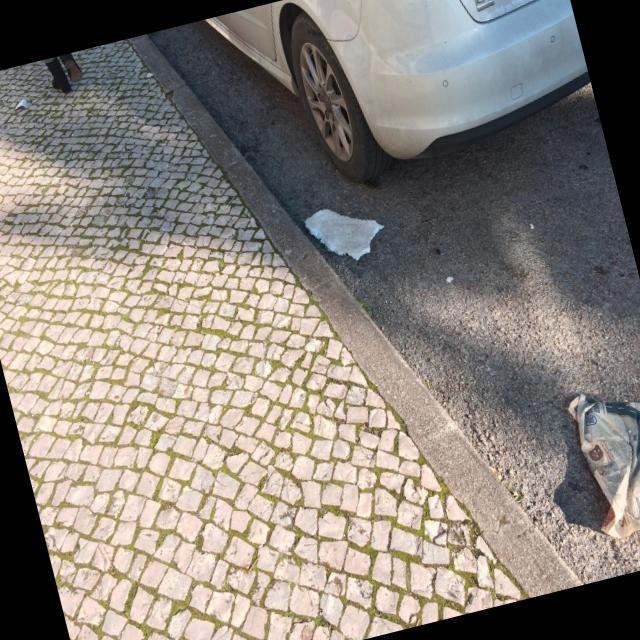less trash: (569, 393, 640, 538), (304, 208, 383, 260)
